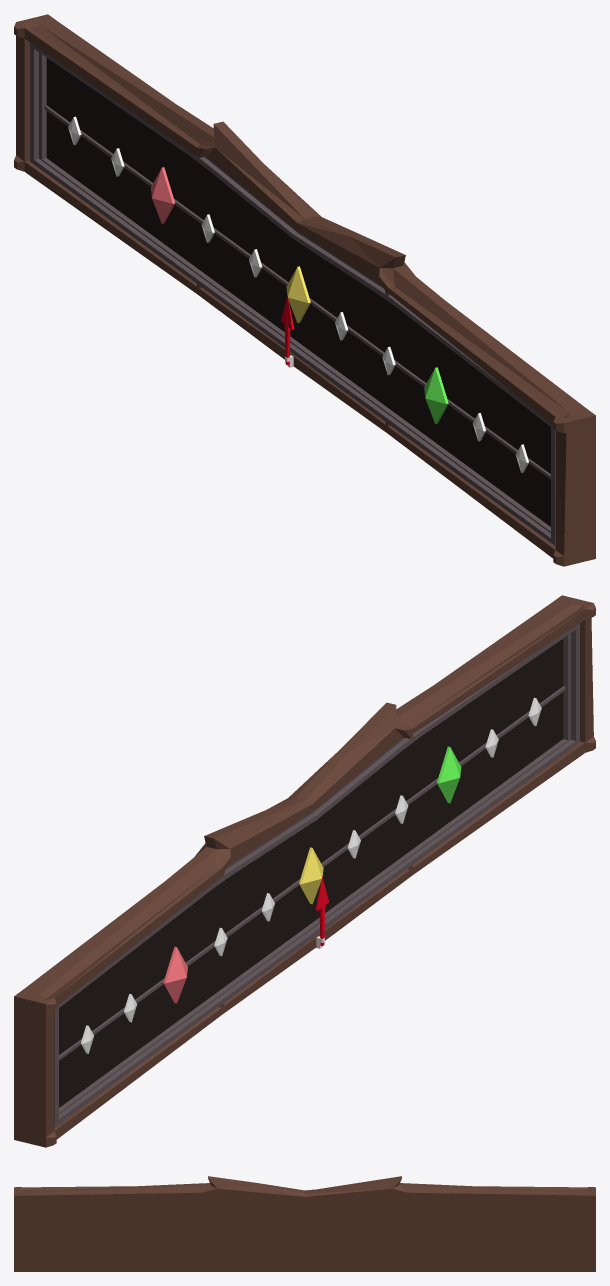
Rendered from etpbar.fbx.
The picture shows the model from 3 angles, top to bottom: view 1: azimuth 30°, elevation 25°; view 2: azimuth 150°, elevation 25°; view 3: azimuth 270°, elevation 25°; orthographic projection. The views are drawn at different scales.
Parts seen in each view (by area): view 1: frame, canvas, meter_diamonds, red_diamond, green_diamond, yellow_diamond; view 2: frame, canvas, meter_diamonds, red_diamond, green_diamond, yellow_diamond; view 3: frame.
Part boxes in pixels (bbox=[...]): frame: bbox=[14, 14, 595, 566]; canvas: bbox=[46, 58, 550, 526]; meter_diamonds: bbox=[68, 116, 528, 472]; red_diamond: bbox=[151, 167, 175, 223]; green_diamond: bbox=[424, 367, 448, 423]; yellow_diamond: bbox=[286, 266, 310, 323]; frame: bbox=[14, 595, 595, 1147]; canvas: bbox=[59, 639, 563, 1107]; meter_diamonds: bbox=[81, 697, 541, 1053]; red_diamond: bbox=[163, 946, 187, 1003]; green_diamond: bbox=[437, 746, 461, 803]; yellow_diamond: bbox=[299, 847, 323, 904]; frame: bbox=[14, 1176, 595, 1271].
Bounding box in the file's own units: 7.5 × 33.5 × 193.
